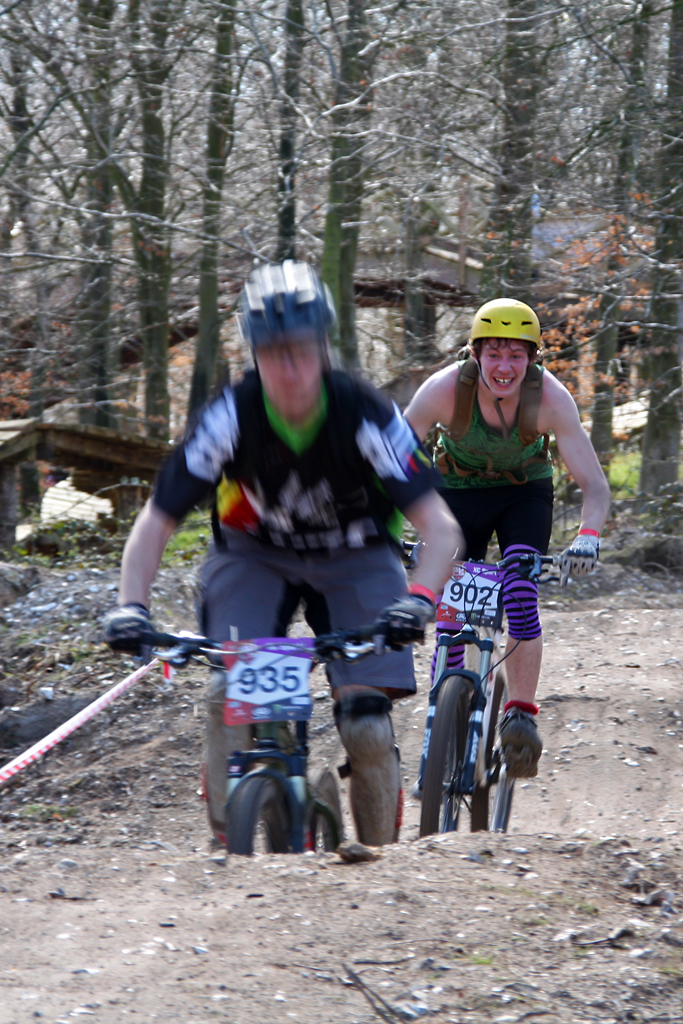Tree: (0, 0, 683, 574)
